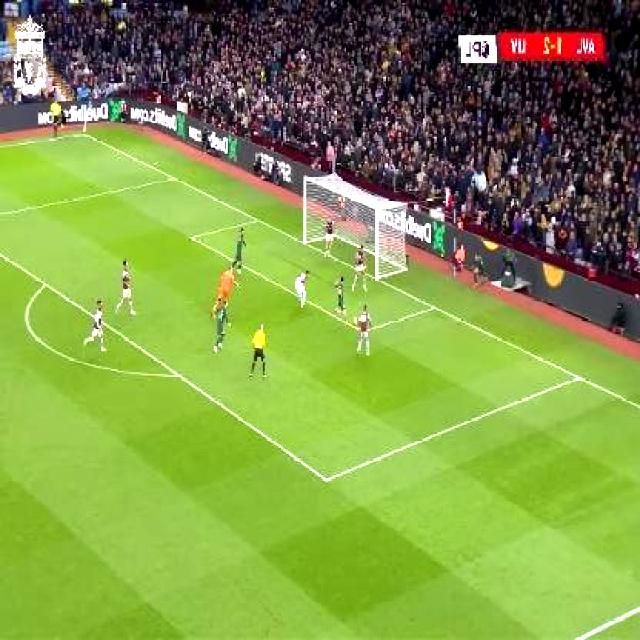bigarea_bottom_inner: (317, 463, 338, 494)
bigarea_bottom_outter: (570, 364, 588, 388)
bigarea_top_outter: (166, 168, 182, 185)
bottom_arc_area_intersection: (169, 360, 189, 386)
corner: (76, 126, 92, 140)
smallarea_bottom_outter: (425, 294, 443, 318)
smallarea_top_inner: (184, 225, 202, 248)
smallarea_top_outter: (250, 209, 268, 229)
top_arc_area_intersection: (38, 274, 54, 292)
